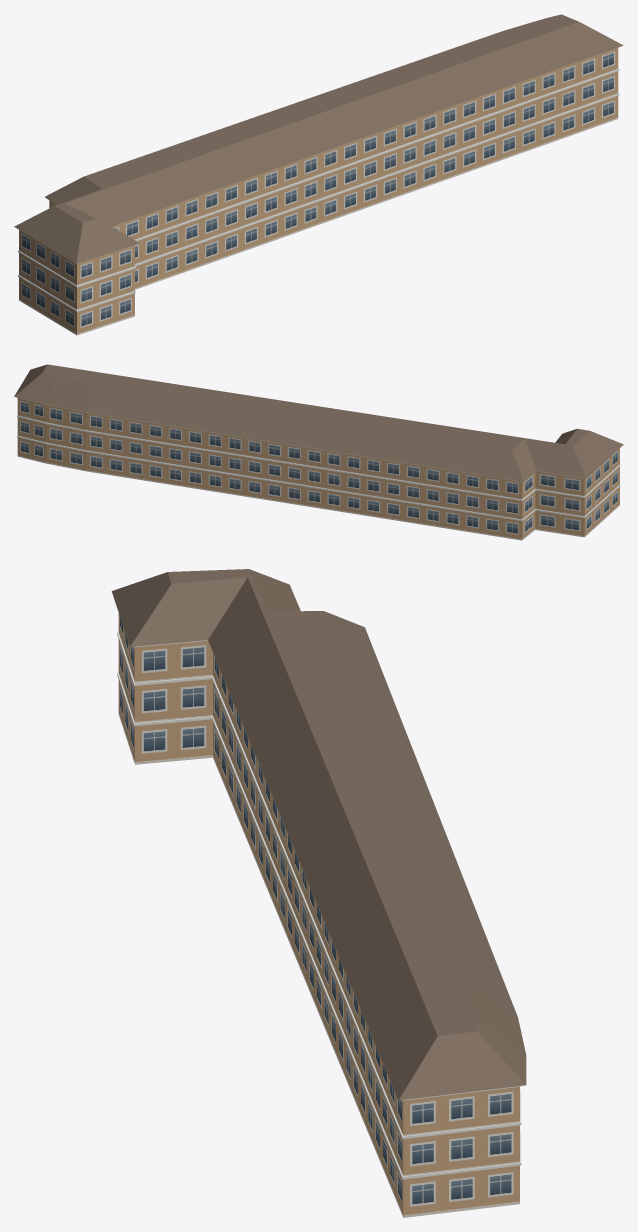
Rendered from kechuang2.glb.
3 renders of one model, top to bottom at view 1: azimuth 30°, elevation 25°; view 2: azimuth 150°, elevation 25°; view 3: azimuth 270°, elevation 25°, orthographic. The views are drawn at different scales.
Parts seen in each view (by area): view 1: 科创2号楼; view 2: 科创2号楼; view 3: 科创2号楼.
Boxes of the visible parts, bbox=[...] form: 科创2号楼: bbox=[14, 14, 623, 335]; 科创2号楼: bbox=[14, 364, 623, 540]; 科创2号楼: bbox=[111, 569, 526, 1217].
Size of the model in its own units: 98.94 by 14.2 by 33.61.
3 materials, 1 textured.
